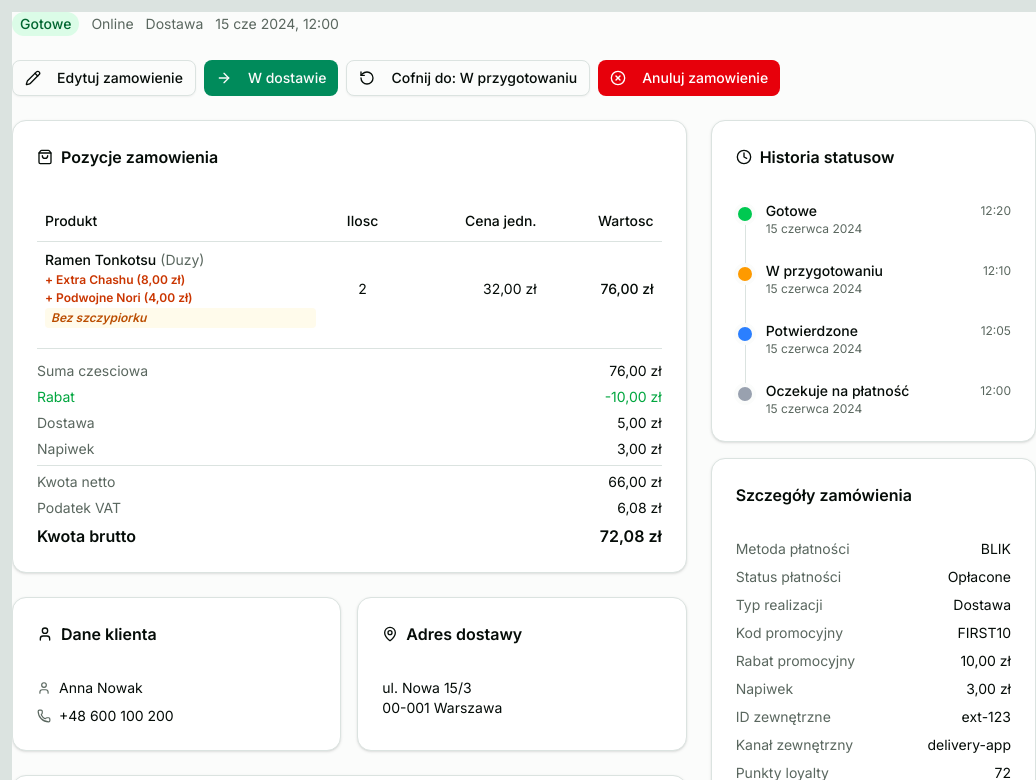
Test case: OrderDetail › disables status actions while rollback is in progress
Click the button "Cofnij do: W przygotowaniu" at (468, 78), box [346,60,590,96]
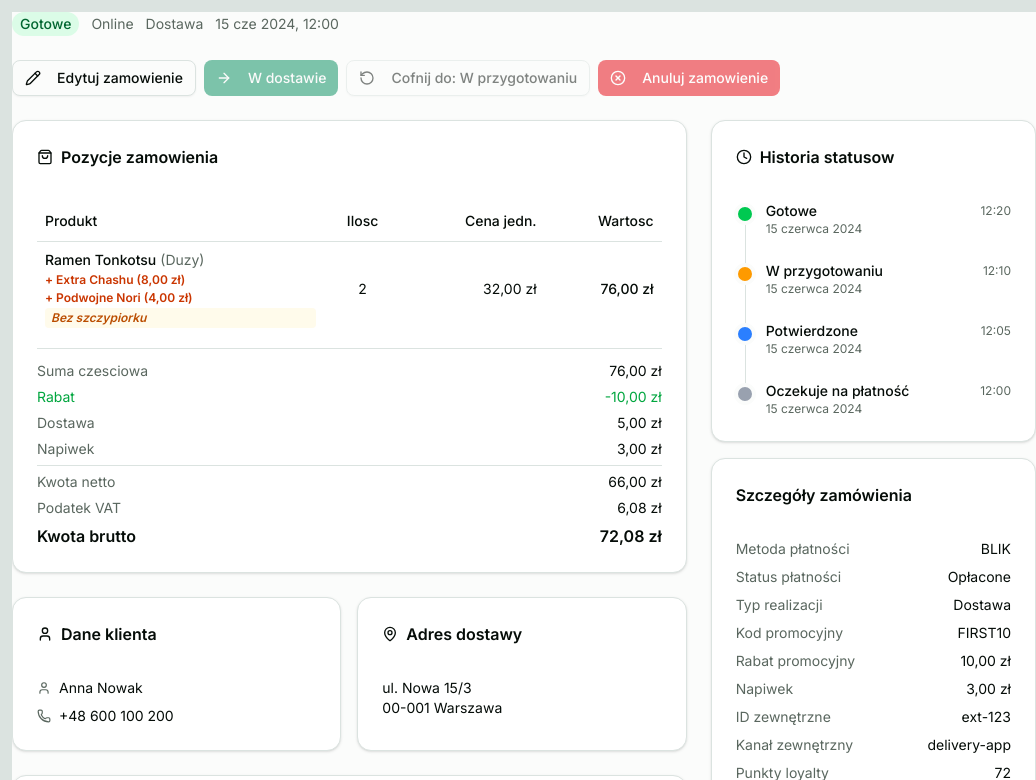
Now the button "Cofnij do: W przygotowaniu" is disabled, box [346,60,590,96]
